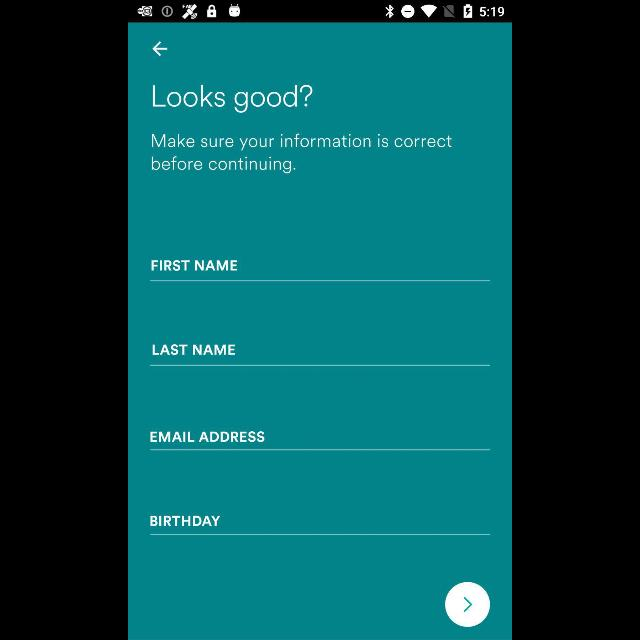button: (446, 582, 490, 626)
icon: (152, 42, 168, 56)
input: (150, 344, 492, 366), (151, 260, 491, 282), (151, 432, 491, 451), (151, 516, 491, 534)
text: (152, 134, 452, 174), (153, 85, 313, 113), (151, 432, 265, 442), (152, 260, 238, 272), (152, 344, 235, 356), (151, 516, 221, 526)
uppertaskbar: (129, 1, 513, 23)
